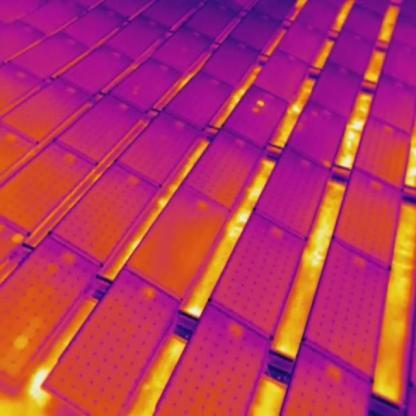anomaly: (248, 97, 268, 119), (13, 334, 29, 349)
